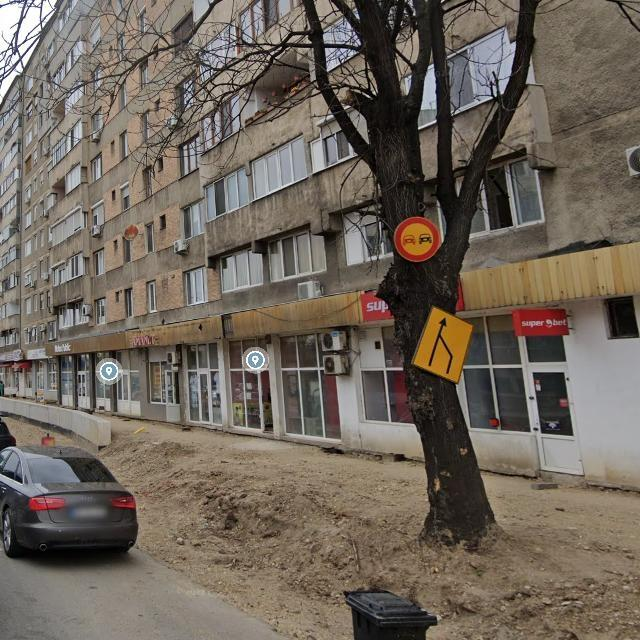forb_overtake: (395, 215, 441, 262)
